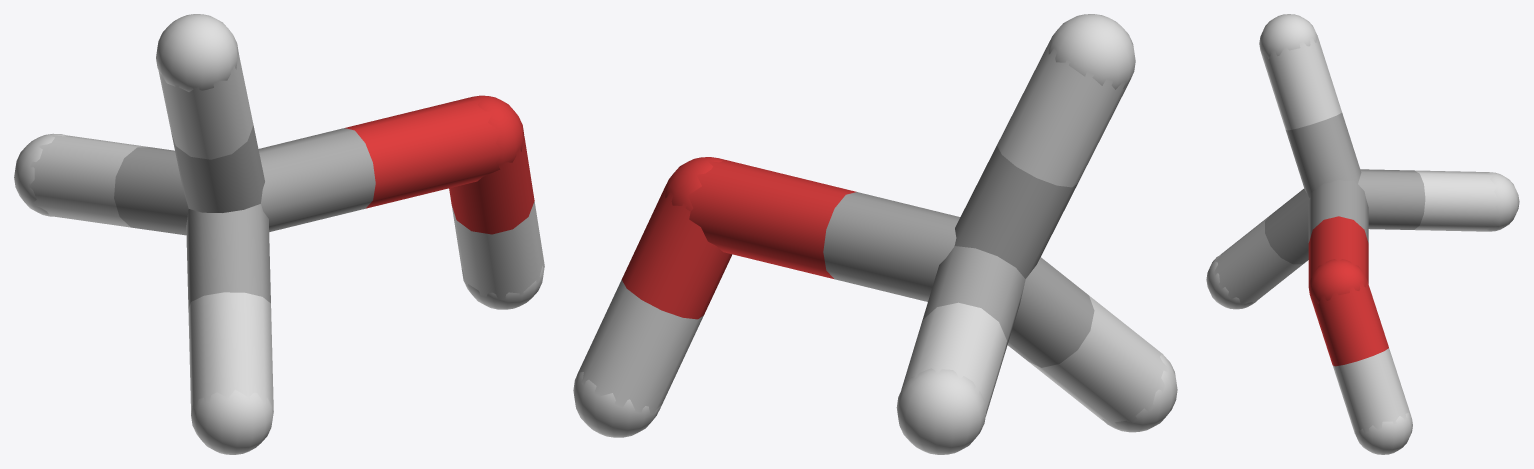
Rendered from methanol-sticks.glb.
The picture shows the model from 3 angles, left to right: view 1: azimuth 30°, elevation 25°; view 2: azimuth 150°, elevation 25°; view 3: azimuth 270°, elevation 25°; orthographic projection. The views are drawn at different scales.
Visible parts, largest first — view 1: methanol-sticks; view 2: methanol-sticks; view 3: methanol-sticks.
Boxes of the visible parts, x1,y1,x2,y2 form: methanol-sticks: [14, 14, 544, 454]; methanol-sticks: [573, 14, 1177, 454]; methanol-sticks: [1206, 14, 1519, 454].
Bounding box in the file's own units: 2.47 × 2.26 × 2.1.
